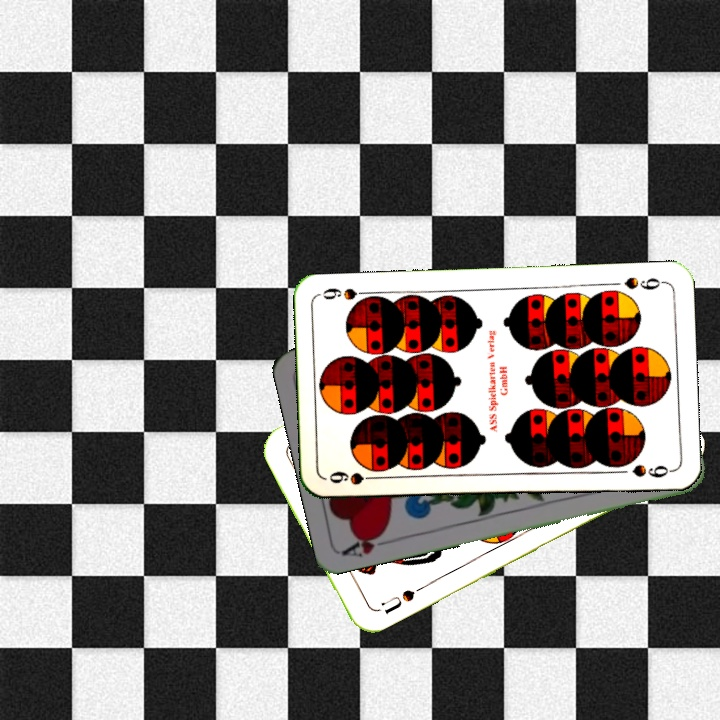HA: (339, 526, 398, 560)
S9: (325, 467, 384, 488), (620, 272, 667, 293)
SU: (377, 585, 418, 617)
